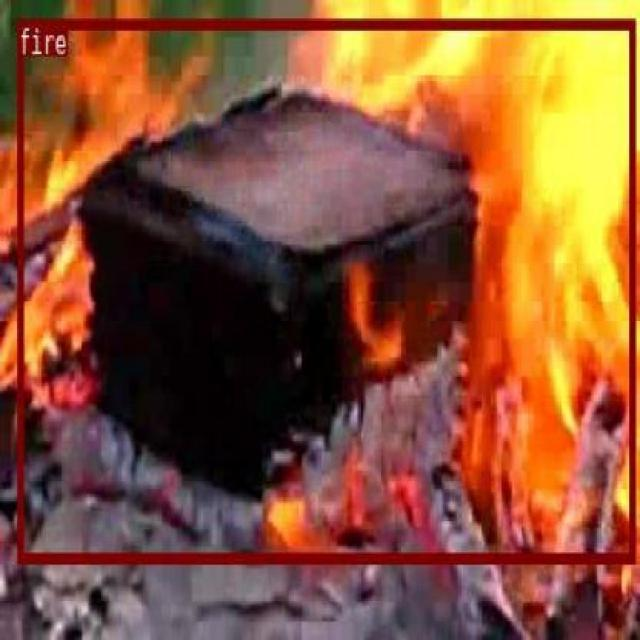Fire: (326, 289, 619, 543)
